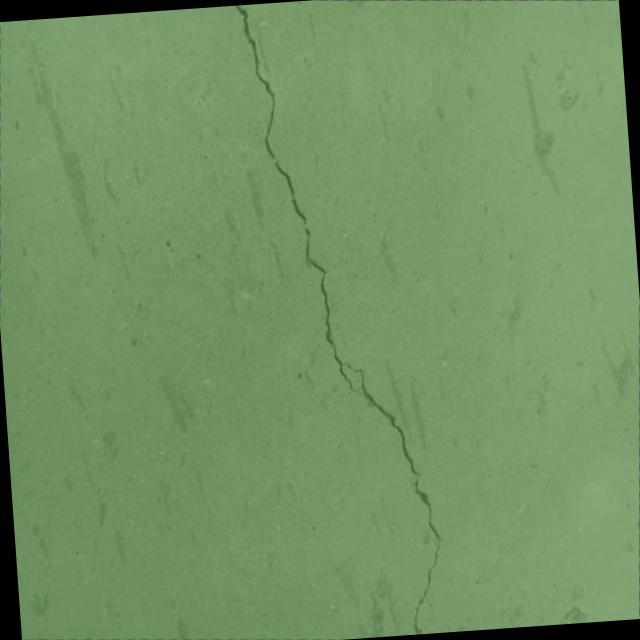crack: (182, 0, 487, 640)
